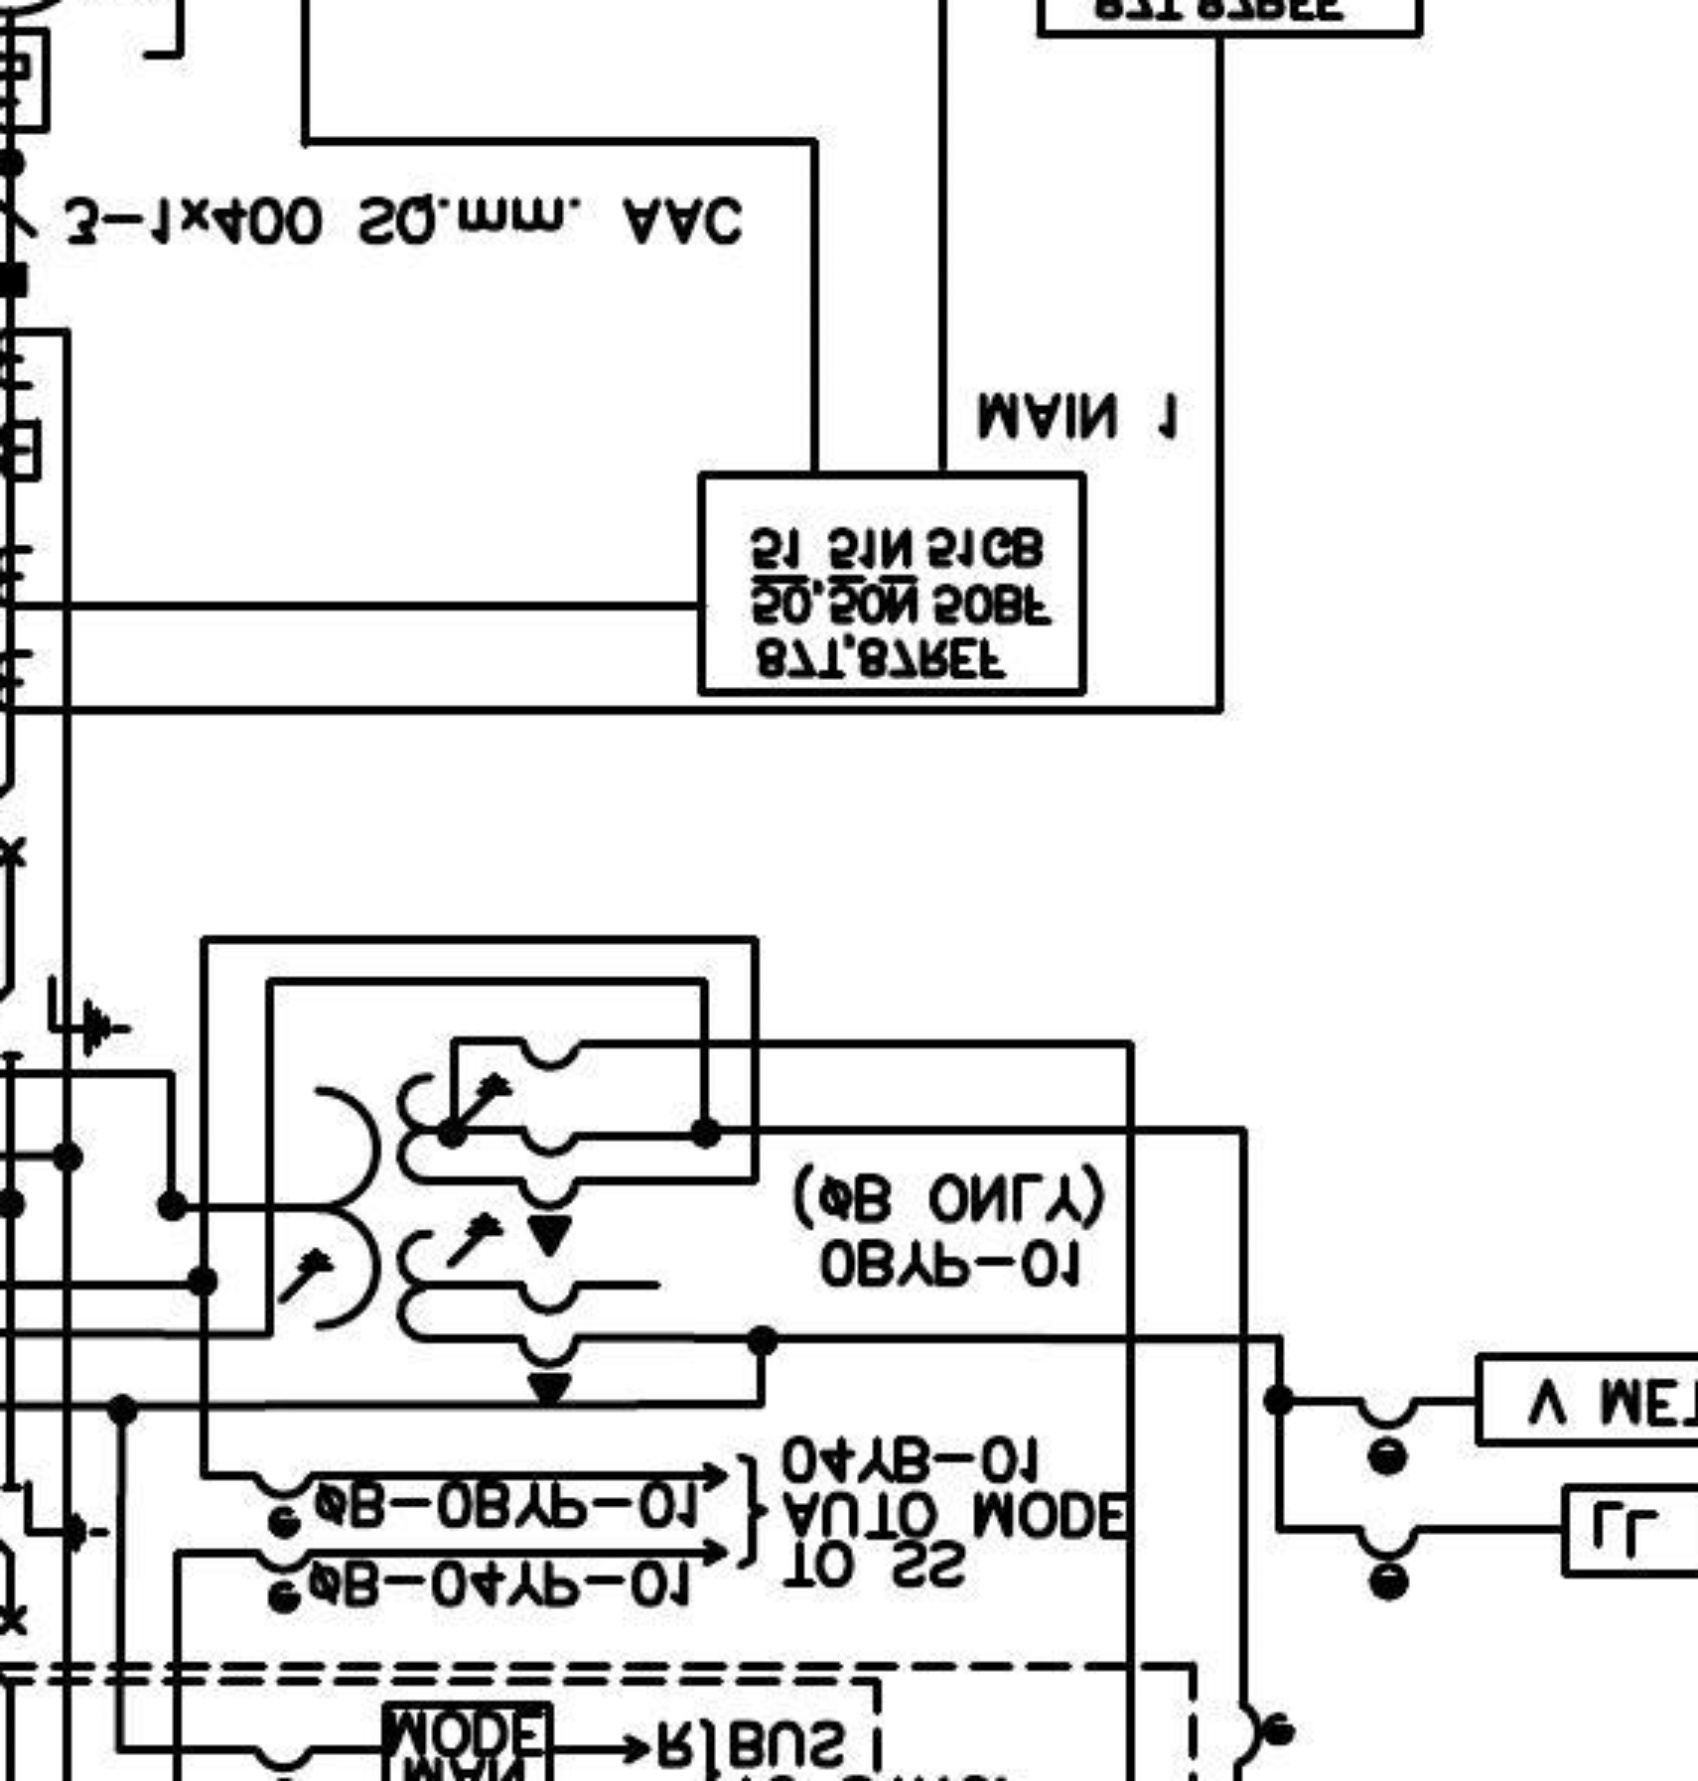115_vt_1p: (275, 1069, 583, 1409)
